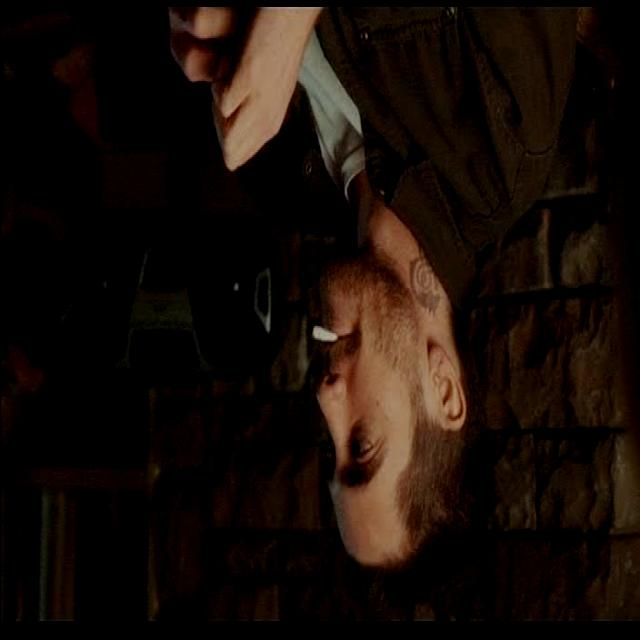cigarette: (308, 322, 336, 348)
